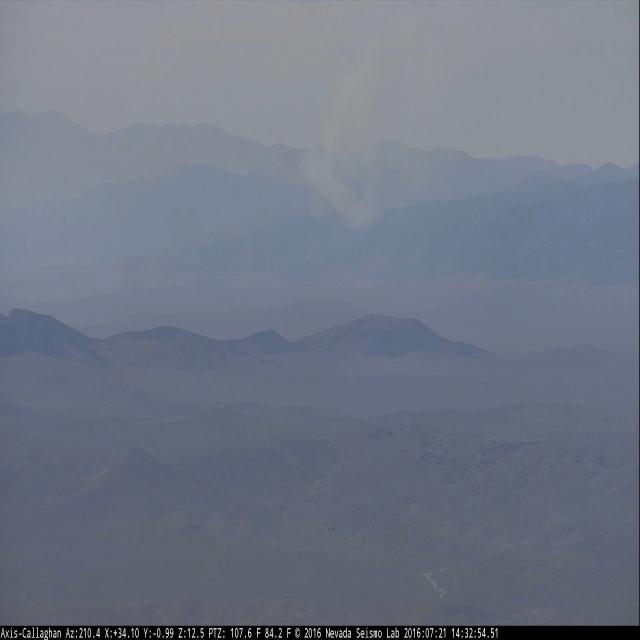smoke: (304, 16, 443, 233)
